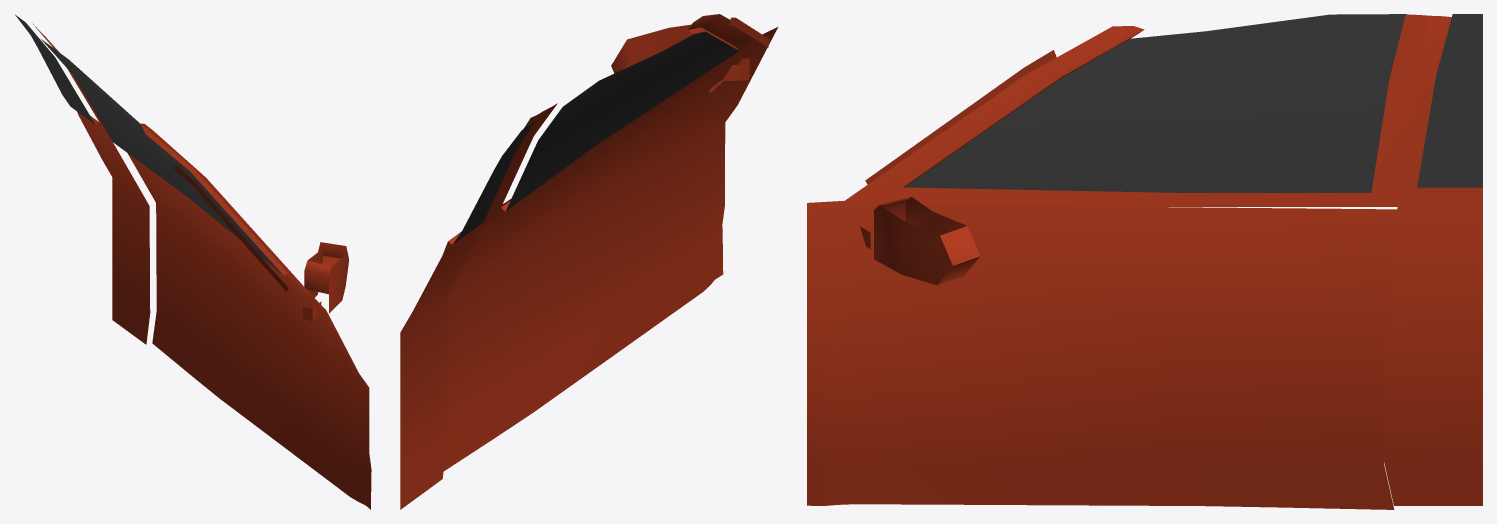
Rendered from suv-right.glb.
3 views of the same model, side by side, from view 1: azimuth 30°, elevation 25°; view 2: azimuth 150°, elevation 25°; view 3: azimuth 270°, elevation 25° (orthographic). The views are drawn at different scales.
Size of the model in its own units: 0.38 by 0.8862 by 1.26.
1 material, 1 textured.
